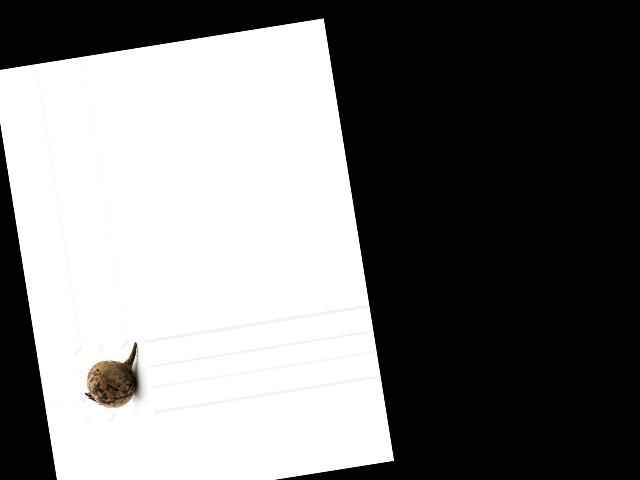beet: (78, 342, 146, 412)
